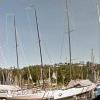Boat: (34, 83, 97, 100)
